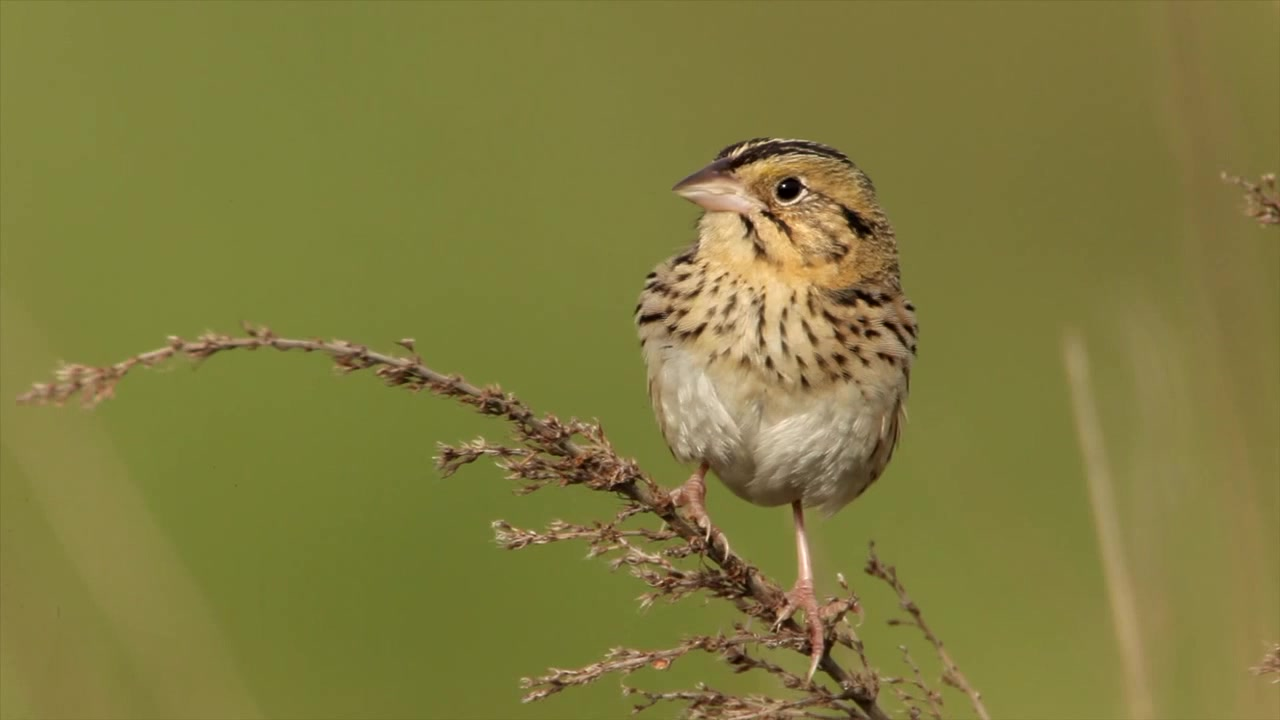bird: (633, 136, 920, 689)
